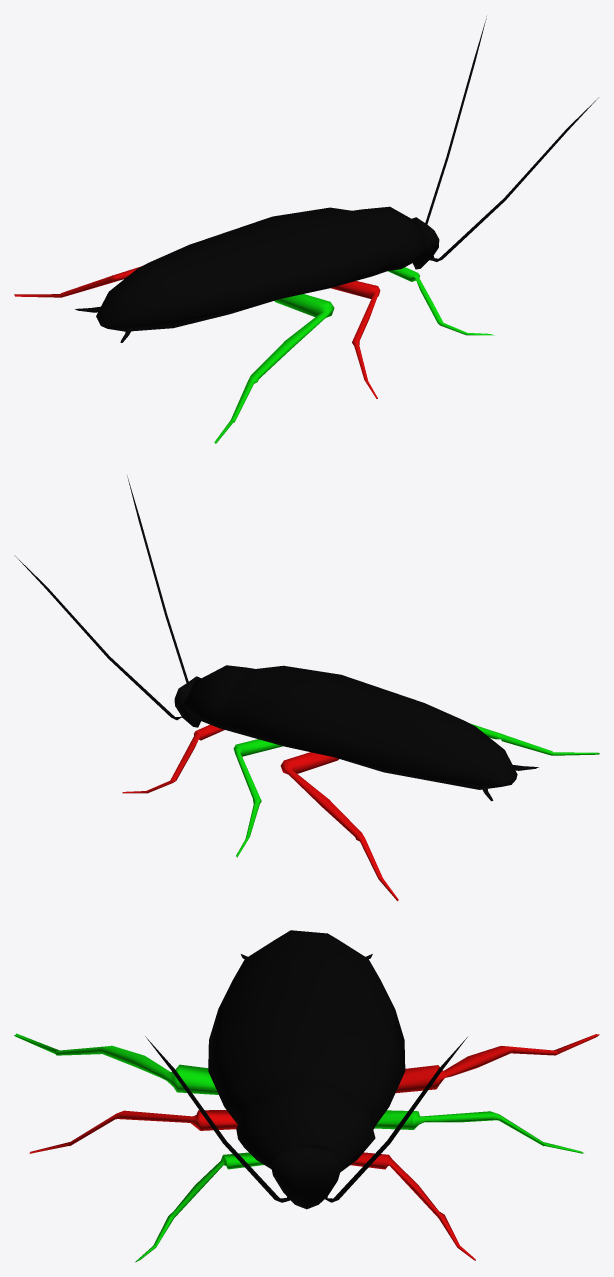
File: cockroach.fbx
3 views of the same model, one above another, from view 1: azimuth 30°, elevation 25°; view 2: azimuth 150°, elevation 25°; view 3: azimuth 270°, elevation 25° (orthographic). The views are drawn at different scales.
Visible parts, largest first — view 1: SM_Roach; view 2: SM_Roach; view 3: SM_Roach.
Boxes of the visible parts, x1=… form: SM_Roach: x1=14, y1=16, x2=598, y2=443; SM_Roach: x1=14, y1=475, x2=599, y2=901; SM_Roach: x1=14, y1=930, x2=599, y2=1262.
Size of the model in its own units: 7.95 by 3.58 by 6.25.
